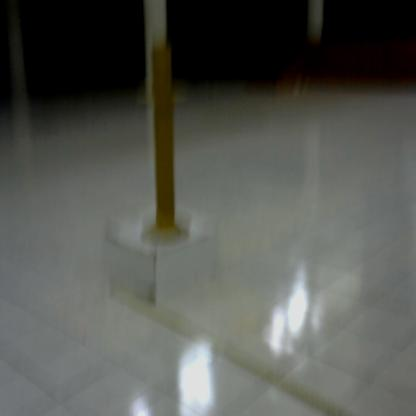pole: (132, 27, 204, 260)
